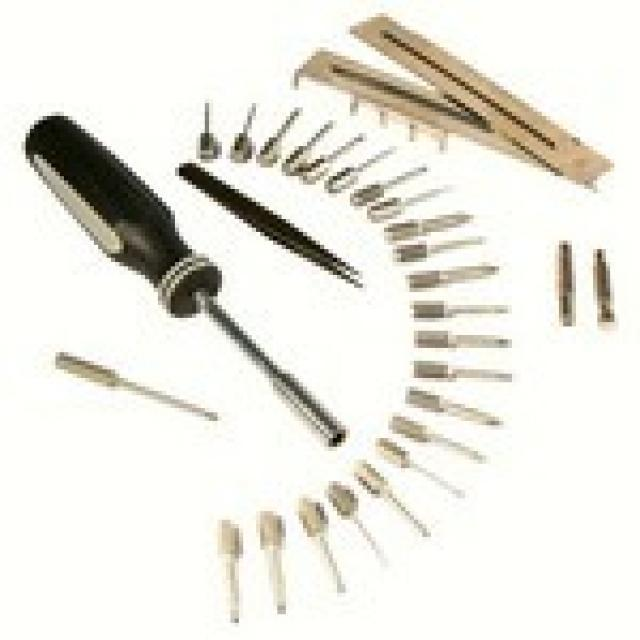screwdriver: (2, 106, 351, 453)
